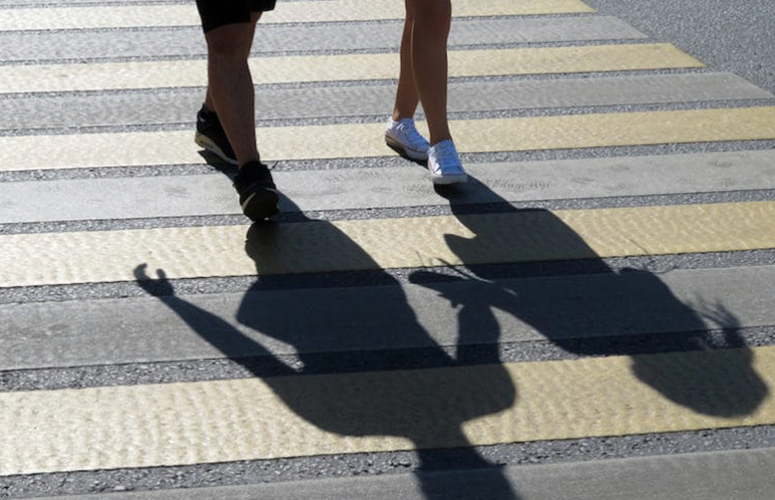Crosswalk: (19, 200, 775, 485), (2, 14, 236, 500)
